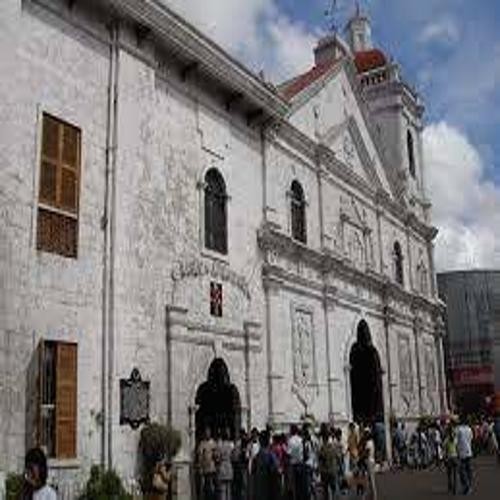Sto. Nino Basilica Church: (256, 9, 456, 449)
